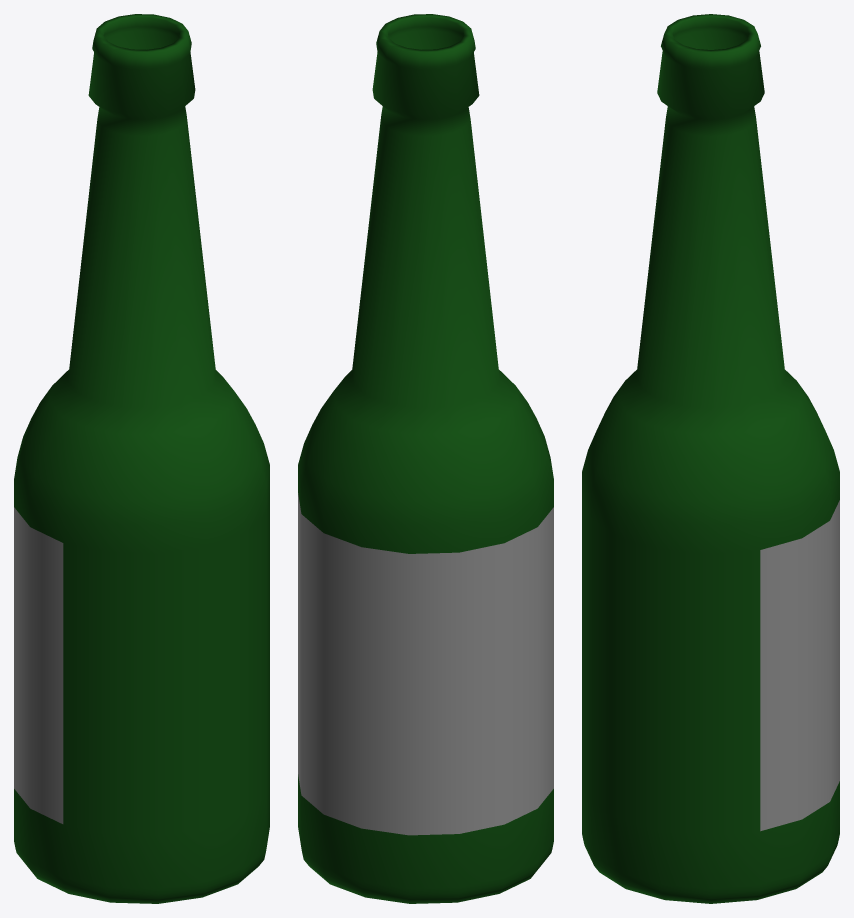
Rendered from Bottle.FBX.
3 renders of one model, left to right at view 1: azimuth 30°, elevation 25°; view 2: azimuth 150°, elevation 25°; view 3: azimuth 270°, elevation 25°, orthographic.
Parts seen in each view (by area): view 1: Bottle; view 2: Bottle; view 3: Bottle.
Boxes of the visible parts, x1=… form: Bottle: x1=14, y1=14, x2=269, y2=903; Bottle: x1=298, y1=14, x2=553, y2=903; Bottle: x1=582, y1=14, x2=839, y2=903.
Bounding box in the file's own units: 6.98 × 6.98 × 24.47.
